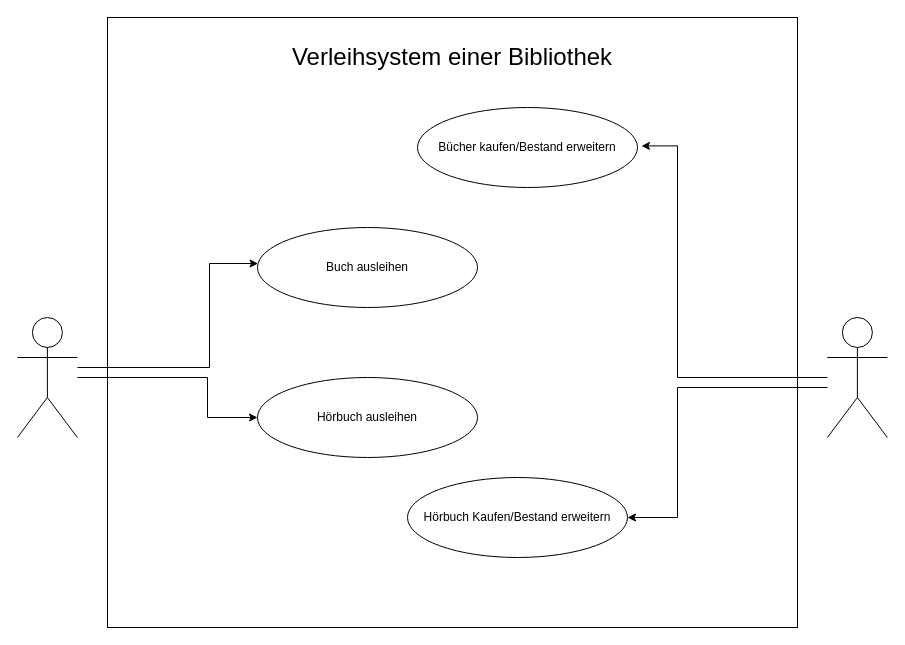
Image size: 905x645. Some labels were removed from this diagram. The centre of each missing label's shape, as x and y in pixels:
"Bibliothek" goes at point 856,377.
"Nutzer" goes at point 46,377.
